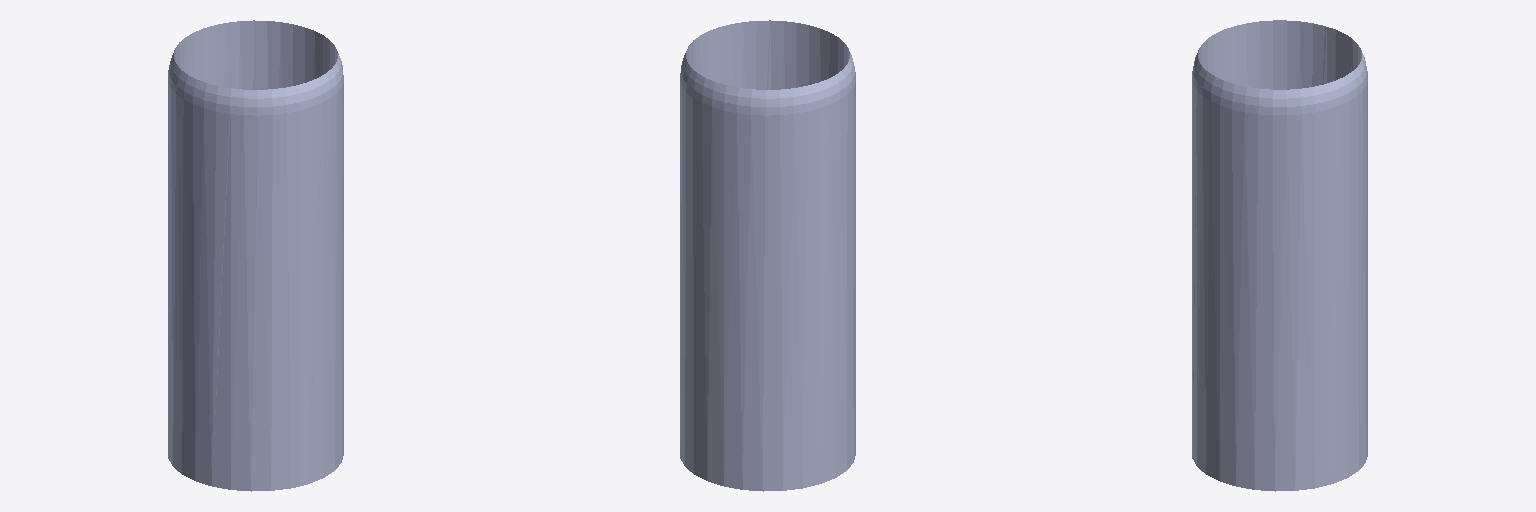
URDF robot description (cup_new.SLDPRT):
<?xml version="1.0" encoding="utf-8"?>
<!-- This URDF was automatically created by SolidWorks to URDF Exporter! Originally created by [author] ([email redacted]) 
     Commit Version: 1.5.1-0-g916b5db  Build Version: 1.5.7152.31018
     For more information, please see http://wiki.ros.org/sw_urdf_exporter -->
<robot
  name="cup_new.SLDPRT">
  <link
    name="cup_new">
    <inertial>
      <origin
        xyz="-3.348E-34 3.59782929549051E-18 0.051986"
        rpy="0 0 0" />
      <mass
        value="0.078242" />
      <inertia
        ixx="0.00020375"
        ixy="-1.4688E-37"
        ixz="-8.8224E-37"
        iyy="0.00020375"
        iyz="-6.49337026898751E-21"
        izz="5.4772E-05" />
    </inertial>
    <visual>
      <origin
        xyz="0 0 0"
        rpy="1.5707963267949 0 0" />
      <geometry>
        <mesh
          filename="package://cup_new/meshes/cup_new.STL" />
      </geometry>
      <material
        name="">
        <color
          rgba="0.79216 0.81961 0.93333 1" />
        <texture
          filename="package://cup_new/textures/" />
      </material>
    </visual>
    <collision>
      <origin
        xyz="0 0 0"
        rpy="1.5707963267949 0 0" />
      <geometry>
        <mesh
          filename="package://cup_new/meshes/cup_new.STL" />
      </geometry>
    </collision>
  </link>
</robot>

--- What the picture shows (computed from the rendered views, not written in the file) ---
Views: 3 orthographic renders of the robot side by side, from view 1: azimuth 30°, elevation 25°; view 2: azimuth 150°, elevation 25°; view 3: azimuth 270°, elevation 25°.
Robot: cup_new.SLDPRT — 1 links, 0 joints (none); root link cup_new; default pose: every joint at zero.
Links seen in each view (by area): view 1: cup_new; view 2: cup_new; view 3: cup_new.
Link boxes in pixels (left/top/right/bottom): cup_new: left=168, top=20, right=343, bottom=491; cup_new: left=680, top=20, right=855, bottom=491; cup_new: left=1192, top=20, right=1367, bottom=491.
Size in the robot's own frame: 0.0599 by 0.06 by 0.15 metres.
1 mesh visuals loaded from 1 distinct referenced files (1 binary STL).